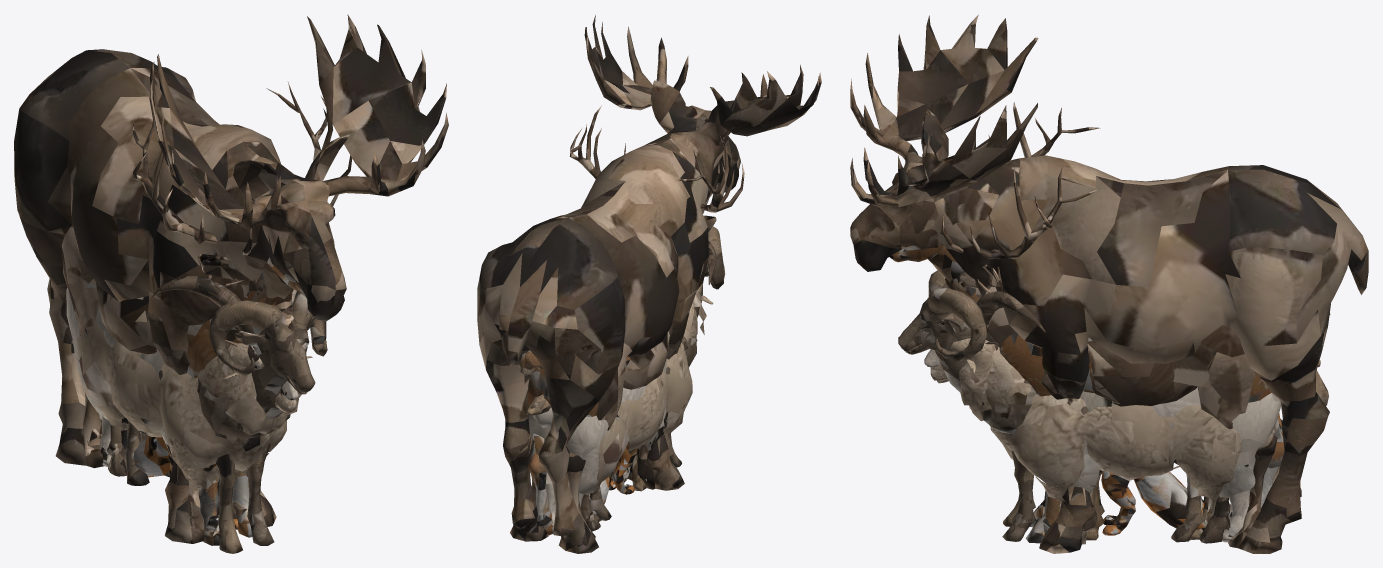
Rendered from animals.glb.
3 views of the same model, side by side, from view 1: azimuth 30°, elevation 25°; view 2: azimuth 150°, elevation 25°; view 3: azimuth 270°, elevation 25° (orthographic). The views are drawn at different scales.
Visible parts, largest first — view 1: animal_quebec, animal_nz, animal_utah, animal_colorado, animal_chile, animal_swiss, animal_bc, animal_japan; view 2: animal_quebec, animal_colorado, animal_nz, animal_bc, animal_chile, animal_utah, animal_japan, animal_swiss, animal_vermont; view 3: animal_quebec, animal_nz, animal_colorado, animal_utah, animal_bc, animal_chile, animal_japan, animal_swiss, animal_vermont.
Part boxes in pixels (left/top/right/bottom): animal_quebec: left=14, top=14, right=448, bottom=543; animal_nz: left=77, top=323, right=312, bottom=529; animal_utah: left=125, top=290, right=327, bottom=553; animal_colorado: left=61, top=81, right=352, bottom=495; animal_chile: left=63, top=229, right=305, bottom=545; animal_swiss: left=107, top=276, right=296, bottom=518; animal_bc: left=66, top=287, right=298, bottom=508; animal_japan: left=133, top=434, right=238, bottom=529; animal_quebec: left=477, top=15, right=821, bottom=553; animal_colorado: left=530, top=105, right=744, bottom=538; animal_nz: left=544, top=283, right=713, bottom=495; animal_bc: left=528, top=358, right=666, bottom=526; animal_chile: left=519, top=162, right=717, bottom=535; animal_utah: left=526, top=226, right=725, bottom=520; animal_japan: left=589, top=441, right=637, bottom=514; animal_swiss: left=580, top=241, right=716, bottom=531; animal_vermont: left=595, top=447, right=646, bottom=521; animal_quebec: left=850, top=14, right=1368, bottom=553; animal_nz: left=930, top=338, right=1242, bottom=517; animal_colorado: left=927, top=102, right=1277, bottom=548; animal_utah: left=898, top=270, right=1320, bottom=542; animal_bc: left=924, top=323, right=1280, bottom=542; animal_chile: left=889, top=242, right=1330, bottom=543; animal_japan: left=1099, top=469, right=1205, bottom=535; animal_swiss: left=976, top=291, right=1230, bottom=543; animal_vermont: left=977, top=266, right=1210, bottom=540.
Size of the model in its own units: 1.46 by 2.6 by 2.6.
Materials: 9 (9 with a texture image).
